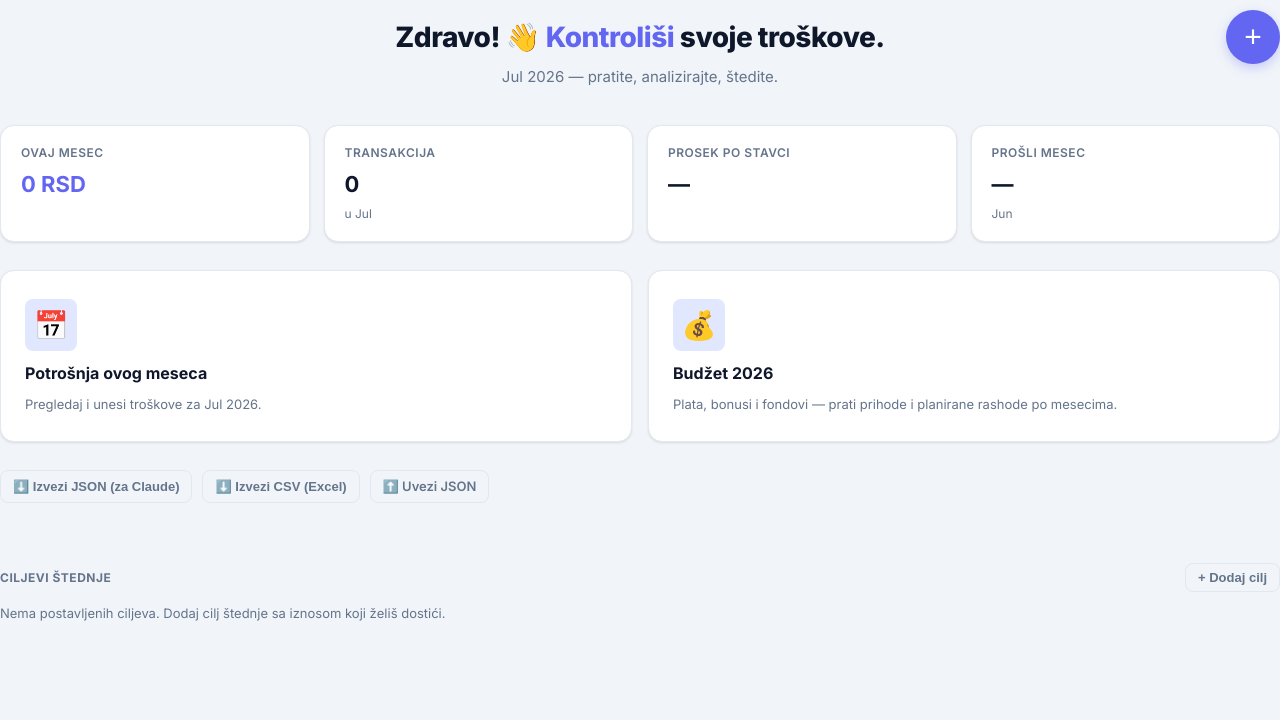
Home — quick-add button › modal closes when ✕ is clicked
Click the button named "dodaj trošak" at (1253, 37), box [1226,10,1279,64]
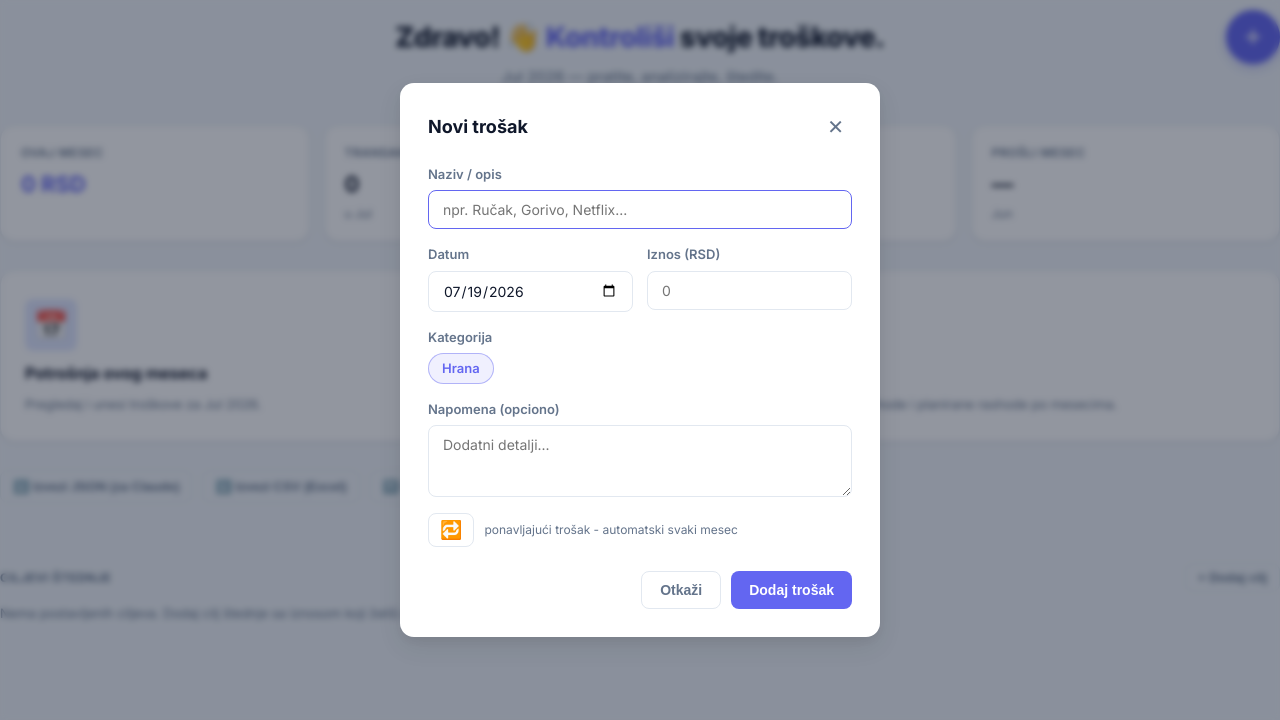
Click the button "✕" at (836, 127), box [819,111,852,143]
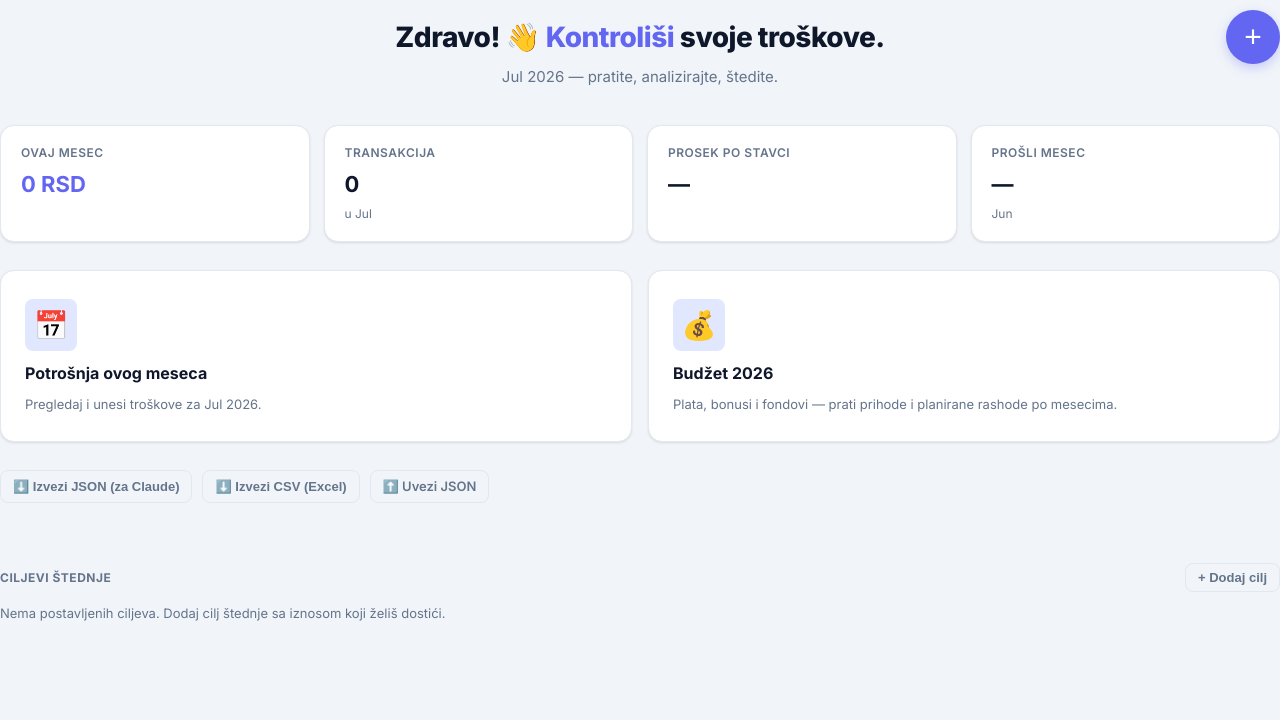
Result: the text "Novi trošak" is gone
